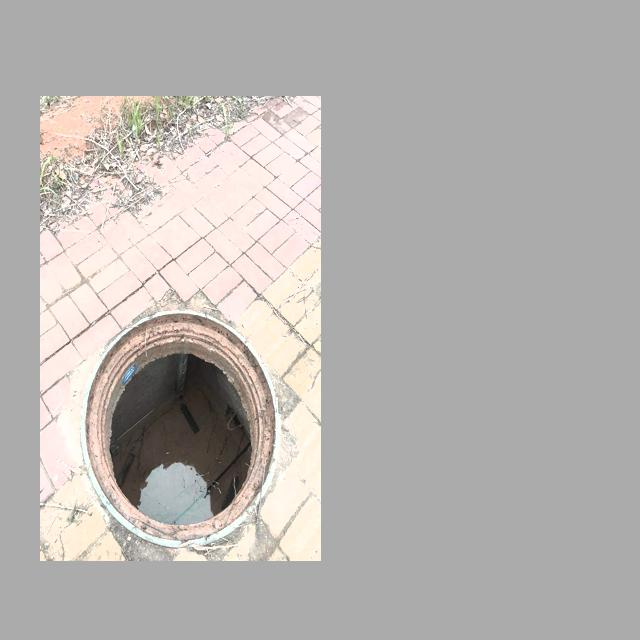lose: (80, 304, 286, 539)
